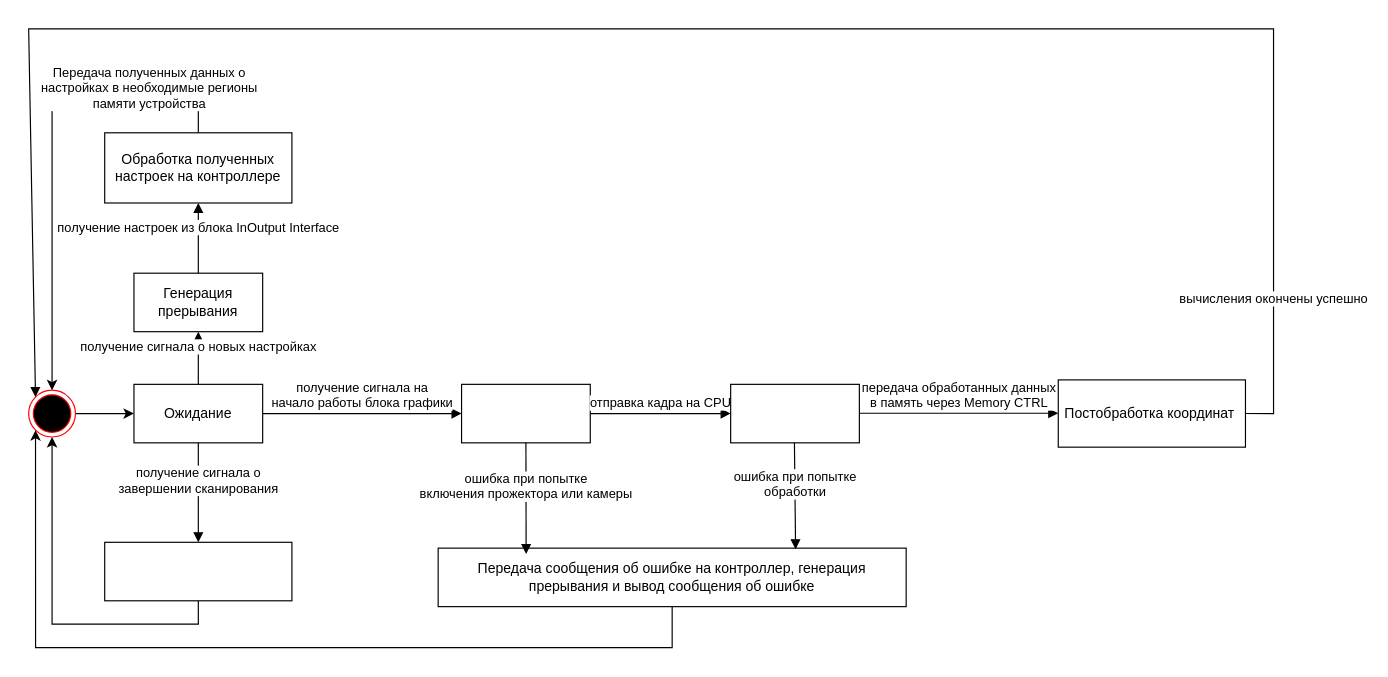
Some shapes in this 1388 by 677 pixel diagram are drawn without their labels. Each missing label, with the box of its shape:
Включение прожектора и камеры: (460, 383, 590, 443)
Обработка изображения с метками на CPU: (729, 383, 859, 443)
Передача всех полученных данных на внешнее устройство (сохранение): (104, 541, 292, 601)
